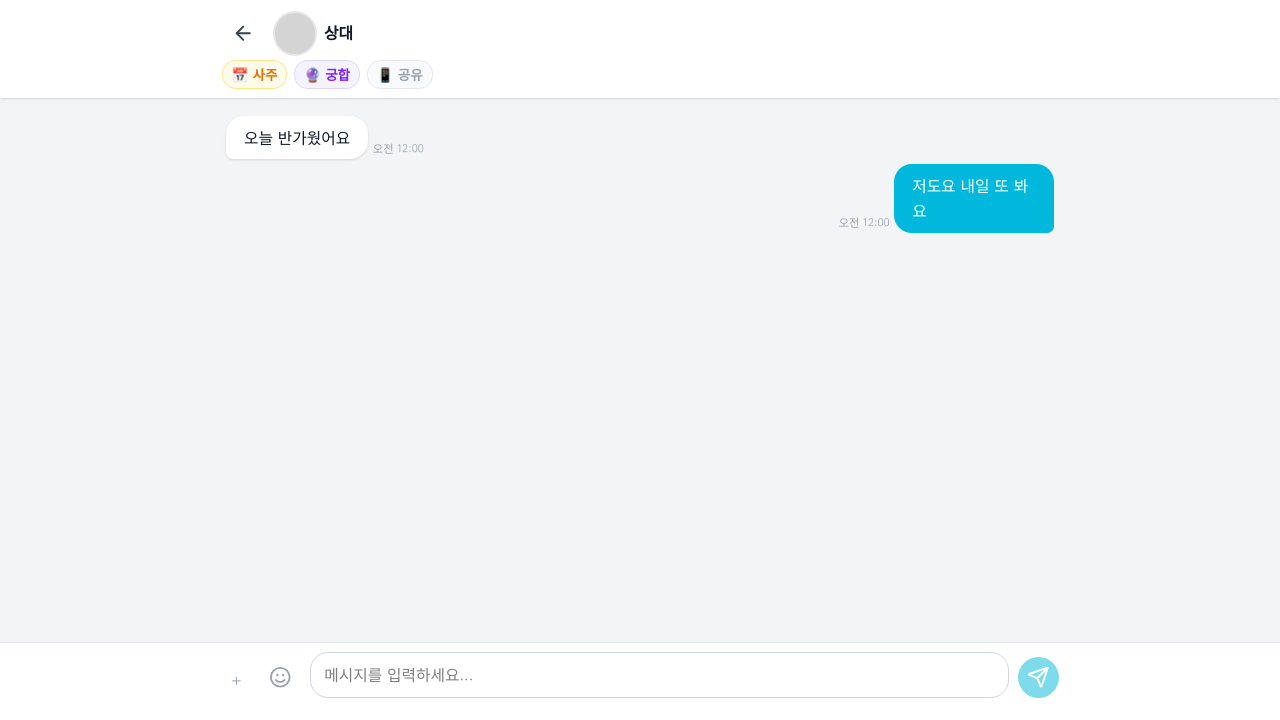
Test case: ChatScreen gestures › swipe ≥ 55px attaches a reply composer
The image size is (1280, 720).
Press the mouse on the text "오늘 반가웠어요" at point(325, 138), box [226,116,424,159]
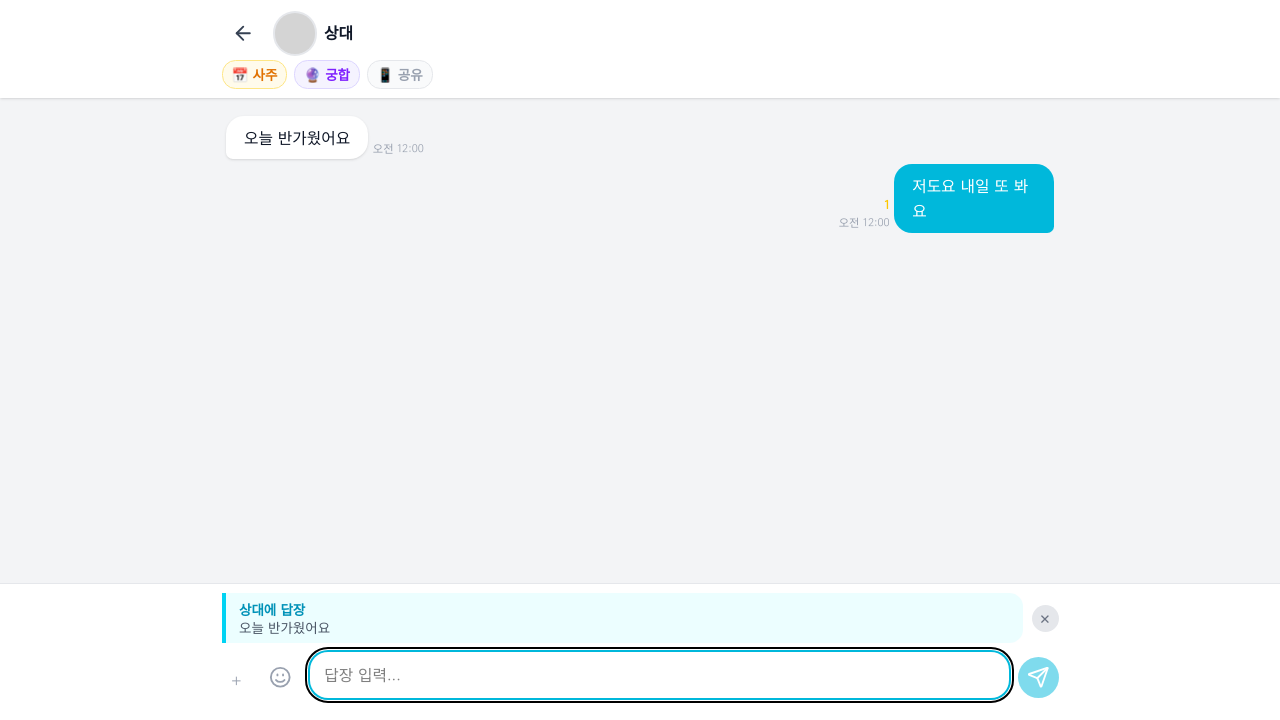
Now the text "상대에 답장" is shown, box [239,599,305,619]
Now the text box with placeholder "답장 입력..." is shown, box [310,652,1009,698]
